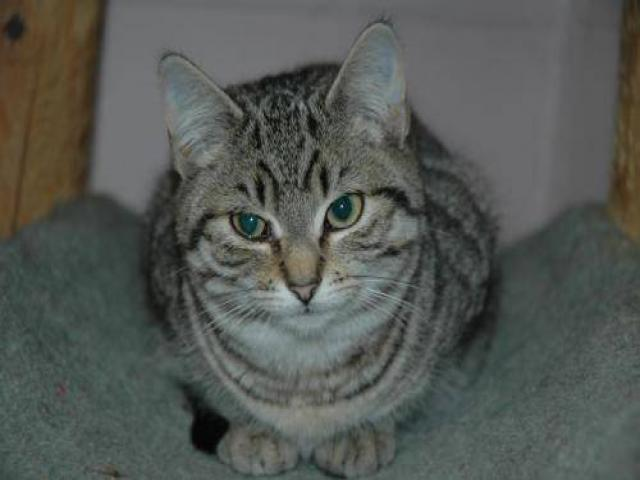cat: (145, 28, 505, 476)
